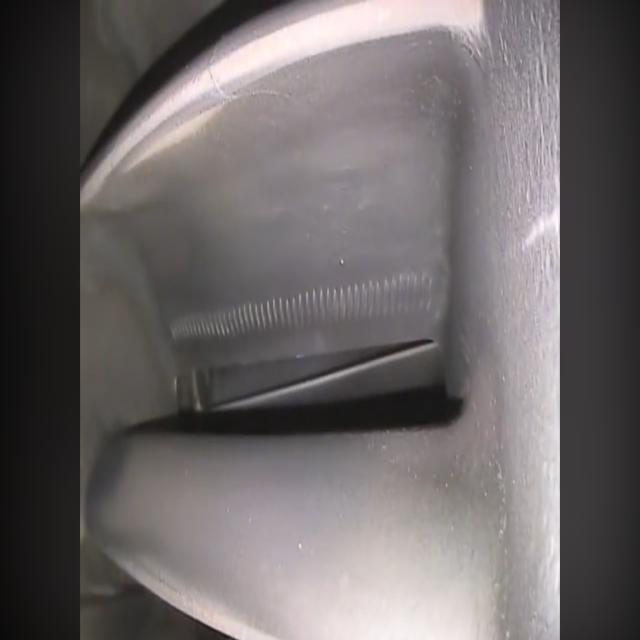crack: (206, 44, 298, 108), (211, 82, 230, 104), (208, 49, 213, 78)
turbine_blade: (79, 0, 483, 371), (87, 374, 508, 639)
